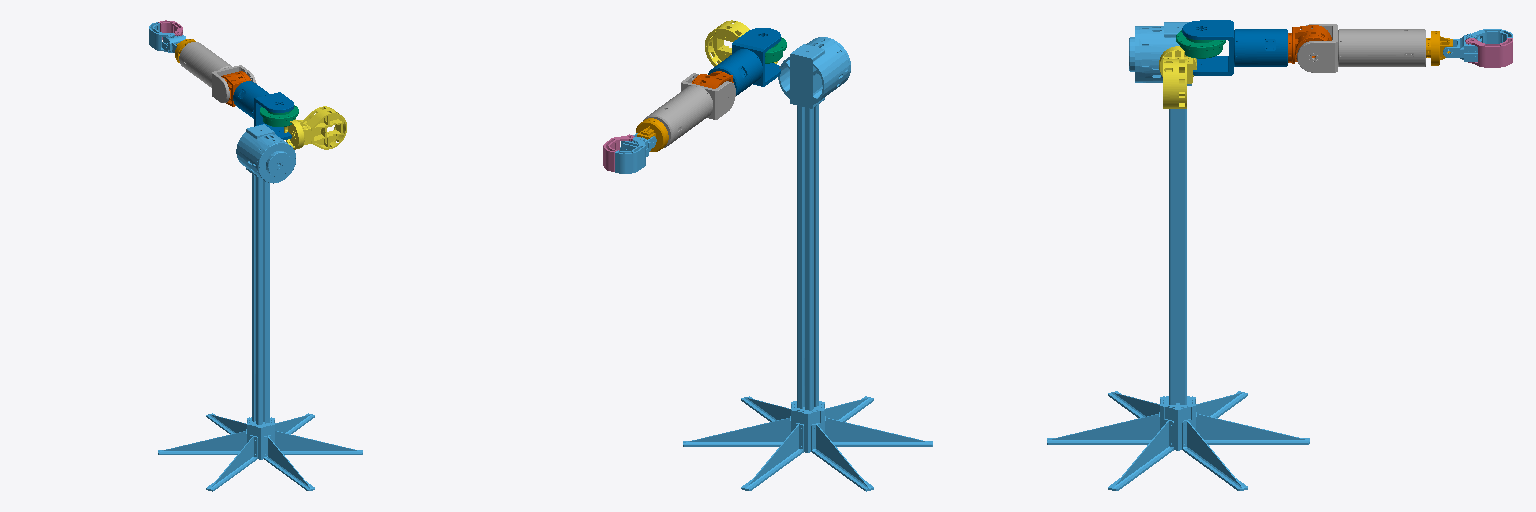
robot.urdf — arm1_URDF:
<?xml version='1.0' encoding='utf-8'?>
<robot name="arm1_URDF">
    <link name="world"/>

    <joint name="world_to_base" type="fixed">
        <parent link="world"/>
        <child link="base"/>
        <origin xyz="0 0 0" rpy="0 0 0"/>
    </joint>

    <link name="base">
        <inertial>
            <origin xyz="0.008961373290610065 0.00031017825769898496 0.38065215286612986" rpy="0.0 0.0 0.0" />
            <mass value="12.376433616429376" />
            <inertia ixx="2.1510954261765014" iyy="2.154381483050222" izz="0.06323514261024876" ixy="-0.0001525059966750246" iyz="-0.002266418724614806" ixz="-0.06596733683320778" />
        </inertial>
        <visual name="base_visual">
            <origin xyz="0.0 0.0 0.0" rpy="0.0 0.0 0.0" />
            <geometry>
                <mesh filename="package://final_project/meshes/base.stl" scale="0.001 0.001 0.001" />
            </geometry>
        </visual>
        <collision name="base_collision">
            <origin xyz="0.0 0.0 0.0" rpy="0.0 0.0 0.0" />
            <geometry>
                <mesh filename="package://final_project/meshes/base.stl" scale="0.001 0.001 0.001" />
            </geometry>
        </collision>
    </link>

    <link name="G_2">
        <inertial>
            <origin xyz="-4.821200741520926e-05 0.051650002701983486 -0.002814704308230833" rpy="0.0 2.368366047466264e-63 0.0" />
            <mass value="1.4003802960724079" />
            <inertia ixx="0.0012716465775937102" iyy="0.0012733156966414638" izz="0.002064897141251354" ixy="-1.1102230535942961e-16" iyz="-6.591708020468888e-17" ixz="-9.507691201111664e-07" />
        </inertial>
        <visual name="G_2_visual">
            <origin xyz="2.0128343436454088e-10 0.05165000270197695 0.013000003750249733" rpy="2.002738253015227e-15 7.101207647974653e-16 1.570796326794897" />
            <geometry>
                <mesh filename="package://final_project/meshes/G_2.stl" scale="0.001 0.001 0.001" />
            </geometry>
        </visual>
        <collision name="G_2_collision">
            <origin xyz="2.0128343436454088e-10 0.05165000270197695 0.013000003750249733" rpy="2.002738253015227e-15 7.101207647974653e-16 1.570796326794897" />
            <geometry>
                <mesh filename="package://final_project/meshes/G_2.stl" scale="0.001 0.001 0.001" />
            </geometry>
        </collision>
    </link>

    <link name="G_4">
        <inertial>
            <origin xyz="-0.04038463037117424 -0.044414441092075575 -4.320119320340154e-06" rpy="0.0 -0.0 0.0" />
            <mass value="2.4016426999048646" />
            <inertia ixx="0.002543638618979216" iyy="0.00746507035305255" izz="0.006473925081874651" ixy="0.0004260818544700503" iyz="-2.6196332135117184e-07" ixz="5.70182370762673e-07" />
        </inertial>
        <visual name="G_4_visual">
            <origin xyz="-0.16499999979871727 -0.04037499624975029 -2.7019774506698015e-09" rpy="1.7610609731376742e-16 -2.573057226334117e-29 -1.7087026238371833e-16" />
            <geometry>
                <mesh filename="package://final_project/meshes/G_4.stl" scale="0.001 0.001 0.001" />
            </geometry>
        </visual>
        <collision name="G_4_collision">
            <origin xyz="-0.16499999979871727 -0.04037499624975029 -2.7019774506698015e-09" rpy="1.7610609731376742e-16 -2.573057226334117e-29 -1.7087026238371833e-16" />
            <geometry>
                <mesh filename="package://final_project/meshes/G_4.stl" scale="0.001 0.001 0.001" />
            </geometry>
        </collision>
    </link>

    <link name="G_5">
        <inertial>
            <origin xyz="-5.758088230791714e-05 -0.03928037497096947 -0.08083082075167397" rpy="0.0 -0.0 0.0" />
            <mass value="3.466326586867893" />
            <inertia ixx="0.018332319582420542" iyy="0.01648710114450891" izz="0.006248046731958307" ixy="2.166248216656924e-08" iyz="4.0732156417972246e-05" ixz="-1.1403774099805197e-05" />
        </inertial>
        <visual name="G_5_visual">
            <origin xyz="2.0128354094595124e-10 -0.04037499624975054 0.1605499972980239" rpy="1.791524518917108e-15 1.5707963267948954 0" />
            <geometry>
                <mesh filename="package://final_project/meshes/G_5.stl" scale="0.001 0.001 0.001" />
            </geometry>
        </visual>
        <collision name="G_5_collision">
            <origin xyz="2.0128354094595124e-10 -0.04037499624975054 0.1605499972980239" rpy="1.791524518917108e-15 1.5707963267948954 0" />
            <geometry>
                <mesh filename="package://final_project/meshes/G_5.stl" scale="0.001 0.001 0.001" />
            </geometry>
        </collision>
    </link>

    <link name="G_7">
        <inertial>
            <origin xyz="-0.03995100615140672 -3.642925092995075e-06 -0.002794027387896847" rpy="-5.0690771927675844e-77 -0.0 0.0" />
            <mass value="2.3642806282696833" />
            <inertia ixx="0.0019356729421218521" iyy="0.0033483666056803862" izz="0.003520665267538141" ixy="2.451147116956021e-07" iyz="2.139523072762185e-07" ixz="-0.00017221691673465937" />
        </inertial>
        <visual name="G_7_visual">
            <origin xyz="-0.05755000270197741 3.750245046729717e-09 -0.011500000201280579" rpy="3.1415926535897927 2.5641103280022327e-16 -1.5707963267948697" />
            <geometry>
                <mesh filename="package://final_project/meshes/G_7.stl" scale="0.001 0.001 0.001" />
            </geometry>
        </visual>
        <collision name="G_7_collision">
            <origin xyz="-0.05755000270197741 3.750245046729717e-09 -0.011500000201280579" rpy="3.1415926535897927 2.5641103280022327e-16 -1.5707963267948697" />
            <geometry>
                <mesh filename="package://final_project/meshes/G_7.stl" scale="0.001 0.001 0.001" />
            </geometry>
        </collision>
    </link>

    <link name="G_13">
        <inertial>
            <origin xyz="0.016230777562398303 0.020920008922724 -0.050990561533745905" rpy="0.0 -0.0 0.0" />
            <mass value="0.41626138634141535" />
            <inertia ixx="0.0004432468996341532" iyy="0.0004028918180213753" izz="0.00016897175375006276" ixy="1.309935894716472e-06" iyz="-4.051061361926586e-06" ixz="-3.111767196104648e-05" />
        </inertial>
        <visual name="G_13_visual">
            <origin xyz="2.0125753508182242e-10 0.022500003750231614 -2.6986778323134787e-09" rpy="-1.570796326794858 -1.5707963267948835 0" />
            <geometry>
                <mesh filename="package://final_project/meshes/G_13.stl" scale="0.001 0.001 0.001" />
            </geometry>
        </visual>
        <collision name="G_13_collision">
            <origin xyz="2.0125753508182242e-10 0.022500003750231614 -2.6986778323134787e-09" rpy="-1.570796326794858 -1.5707963267948835 0" />
            <geometry>
                <mesh filename="package://final_project/meshes/G_13.stl" scale="0.001 0.001 0.001" />
            </geometry>
        </collision>
    </link>

    <link name="G_25">
        <inertial>
            <origin xyz="-0.04021770217309118 -3.5949038116602496e-05 -0.11308873190424037" rpy="0.0 -0.0 0.0" />
            <mass value="3.925721926647081" />
            <inertia ixx="0.031008283294245986" iyy="0.032519063409173654" izz="0.006387139438659456" ixy="6.178516366345428e-08" iyz="3.421209168845939e-05" ixz="9.652927935610567e-05" />
        </inertial>
        <visual name="G_25_visual">
            <origin xyz="-0.20042499979871903 -0.0013749962497433682 0.2570499972980261" rpy="-2.6939362145612463e-14 -4.567492924800655e-16 7.892991815698548e-17" />
            <geometry>
                <mesh filename="package://final_project/meshes/G_25.stl" scale="0.001 0.001 0.001" />
            </geometry>
        </visual>
        <collision name="G_25_collision">
            <origin xyz="-0.20042499979871903 -0.0013749962497433682 0.2570499972980261" rpy="-2.6939362145612463e-14 -4.567492924800655e-16 7.892991815698548e-17" />
            <geometry>
                <mesh filename="package://final_project/meshes/G_25.stl" scale="0.001 0.001 0.001" />
            </geometry>
        </collision>
    </link>

    <link name="G_27">
        <inertial>
            <origin xyz="4.24878932776096e-06 -3.695564278066721e-08 -0.021545386615046312" rpy="0.0 -0.0 0.0" />
            <mass value="1.031862602100711" />
            <inertia ixx="0.0006021549368911139" iyy="0.0005618534325823044" izz="0.0004886525498681085" ixy="9.417160948613224e-10" iyz="-1.1690843518957772e-10" ixz="4.4531473494813234e-08" />
        </inertial>
        <visual name="G_27_visual">
            <origin xyz="-0.1604249997987264 -0.0013749962497556223 0.40269999730132183" rpy="-2.6767837078595948e-14 -3.1103246755847983e-16 7.892991815698414e-17" />
            <geometry>
                <mesh filename="package://final_project/meshes/G_27.stl" scale="0.001 0.001 0.001" />
            </geometry>
        </visual>
        <collision name="G_27_collision">
            <origin xyz="-0.1604249997987264 -0.0013749962497556223 0.40269999730132183" rpy="-2.6767837078595948e-14 -3.1103246755847983e-16 7.892991815698414e-17" />
            <geometry>
                <mesh filename="package://final_project/meshes/G_27.stl" scale="0.001 0.001 0.001" />
            </geometry>
        </collision>
    </link>

    <link name="G_28">
        <inertial>
            <origin xyz="-0.029549211332298847 -0.00019460842477873912 -0.06834793045878229" rpy="0.0 -0.0 0.0" />
            <mass value="0.8916811263276078" />
            <inertia ixx="0.0015723146734181737" iyy="0.0018081931798487605" izz="0.0005694478303693018" ixy="5.3730369882413315e-06" iyz="4.6348577788929424e-07" ixz="-0.0003561554591772556" />
        </inertial>
        <visual name="G_28_visual">
            <origin xyz="-0.17742499979873574 -0.0013749962497559575 0.45294999730132146" rpy="-2.6767837078595948e-14 -5.762524652680451e-16 7.89299181569836e-17" />
            <geometry>
                <mesh filename="package://final_project/meshes/G_28.stl" scale="0.001 0.001 0.001" />
            </geometry>
        </visual>
        <collision name="G_28_collision">
            <origin xyz="-0.17742499979873574 -0.0013749962497559575 0.45294999730132146" rpy="-2.6767837078595948e-14 -5.762524652680451e-16 7.89299181569836e-17" />
            <geometry>
                <mesh filename="package://final_project/meshes/G_28.stl" scale="0.001 0.001 0.001" />
            </geometry>
        </collision>
    </link>

    <joint name="joint_10" type="continuous">
        <origin xyz="0.11955 0.040374999999999994 -0.051650000000000064" rpy="-3.5113466634615537e-31 -0.0 -2.3738919364399067e-66" />
        <parent link="G_2" />
        <child link="G_4" />
        <axis xyz="1.0 0.0 -2.465190328815662e-32" />
    </joint>

    <joint name="joint_11" type="continuous">
        <origin xyz="-3.552713678800501e-17 0.051650000000000064 0.019750000000000004" rpy="1.5707963267948966 4.463542775542222e-47 5.605193857299268e-45" />
        <parent link="G_2" />
        <child link="G_5" />
        <axis xyz="0.0 1.0 4.4755935958520466e-31" />
    </joint>

    <joint name="joint_12" type="continuous">
        <origin xyz="-0.0001249999999999929 -0.039 -0.19194999999999993" rpy="-1.8487926954202153e-15 -1.5707963267948966 0" />
        <parent link="G_5" />
        <child link="G_7" />
        <axis xyz="1.0 5.827954054064347e-31 -1.2351231148954849e-14" />
    </joint>

    <joint name="joint_13" type="continuous">
        <origin xyz="-0.05755000000000066 7.382983113757291e-17 -0.04" rpy="4.70462019996466e-32 1.5707963267948841 0" />
        <parent link="G_7" />
        <child link="G_25" />
        <axis xyz="1.0 0.0 2.891008291347084e-31" />
    </joint>

    <joint name="joint_14" type="continuous">
        <origin xyz="0.017250000000000015 0.0 -0.05025000000000006" rpy="-6.312213884124065e-64 4.930380657631324e-32 1.1347551481098548e-32" />
        <parent link="G_27" />
        <child link="G_28" />
        <axis xyz="4.930380657631324e-32 0.0 1.0" />
    </joint>

    <joint name="joint_15" type="continuous">
        <origin xyz="-0.04 0.0 -0.24949997999999995" rpy="-7.591481487369757e-65 -3.9686267332812115e-32 6.6682750465799775e-34" />
        <parent link="G_25" />
        <child link="G_27" />
        <axis xyz="9.860761315262648e-32 0.0 1.0" />
    </joint>

    <joint name="joint_16" type="continuous">
        <origin xyz="-0.004250000000000007 -0.02075 -0.05074999999999996" rpy="-1.8856650730814692e-65 4.930380657631324e-32 -2.613319425339874e-33" />
        <parent link="G_28" />
        <child link="G_13" />
        <axis xyz="0.0 0.0 1.0" />
    </joint>

    <joint name="fixed_18" type="fixed">
        <origin xyz="0.09099999979871715 -3.750249421563545e-09 1.0266500027019778" rpy="8.673617379883954e-19 1.3065901218165487e-62 1.5777218104420236e-30" />
        <parent link="base" />
        <child link="G_2" />
    </joint>

</robot>

--- Facts derived from the render (not from the file) ---
The picture shows the robot from 3 angles, left to right: view 1: azimuth 30°, elevation 25°; view 2: azimuth 150°, elevation 25°; view 3: azimuth 270°, elevation 25°; orthographic projection.
Model arm1_URDF with 10 links and 9 joints (7 continuous, 2 fixed), rooted at world, posed all joints at 0.
Links seen in each view (by area): view 1: base, G_25, G_4, G_5, G_28; view 2: base, G_25, G_5, G_28, G_4, G_27; view 3: base, G_25, G_5, G_4, G_28, G_13, G_7, G_2, G_27.
Link boxes in pixels (bbox=[...]): base: bbox=[158, 124, 362, 491]; G_25: bbox=[179, 42, 256, 102]; G_4: bbox=[284, 106, 346, 149]; G_5: bbox=[233, 81, 293, 139]; G_28: bbox=[149, 22, 185, 52]; base: bbox=[683, 37, 932, 491]; G_25: bbox=[643, 73, 735, 147]; G_5: bbox=[708, 28, 780, 95]; G_28: bbox=[615, 133, 656, 173]; G_4: bbox=[705, 20, 777, 66]; G_27: bbox=[636, 118, 668, 151]; base: bbox=[1047, 22, 1309, 490]; G_25: bbox=[1297, 24, 1425, 72]; G_5: bbox=[1182, 20, 1287, 75]; G_4: bbox=[1159, 46, 1196, 108]; G_28: bbox=[1443, 29, 1512, 61]; G_13: bbox=[1465, 38, 1512, 67]; G_7: bbox=[1288, 25, 1331, 63]; G_2: bbox=[1176, 30, 1225, 58]; G_27: bbox=[1426, 31, 1452, 65].
Bounding box of the posed robot: 0.5241 × 1.04 × 1.06 m (x, y, z).
Meshes: 9 distinct files referenced, 9 mesh visuals loaded (9 binary STL).
